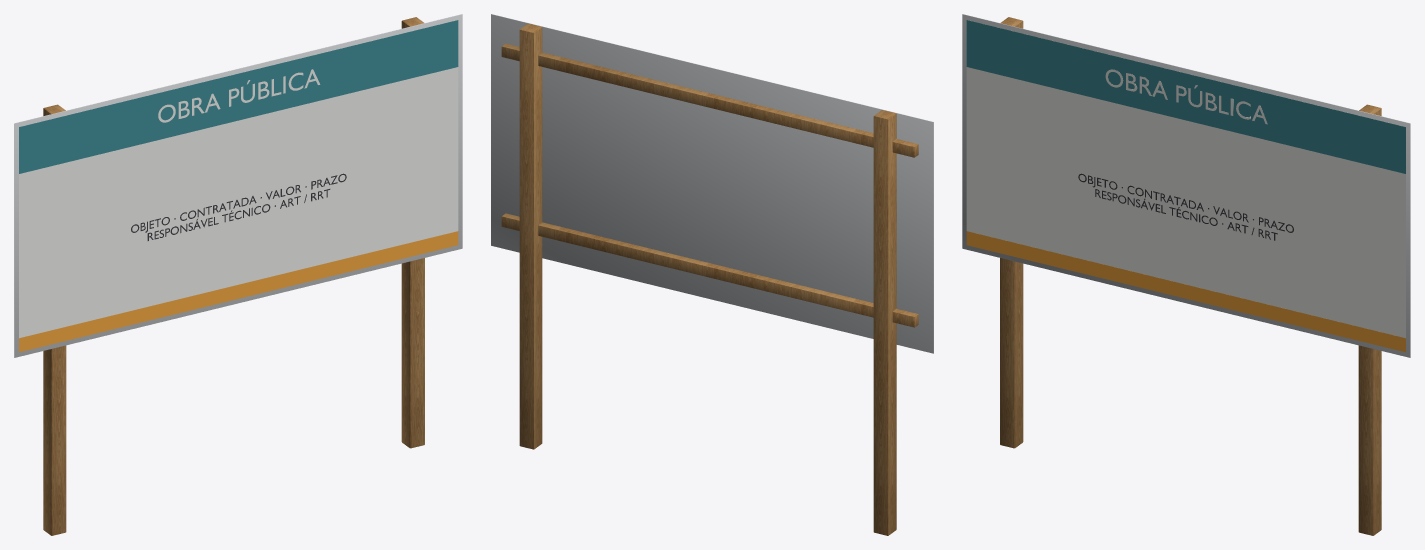
Rendered from SER-PLC-001.glb.
3 views of the same model, side by side, from view 1: azimuth 30°, elevation 25°; view 2: azimuth 150°, elevation 25°; view 3: azimuth 330°, elevation 25° (orthographic).
Parts seen in each view (by area): view 1: SER-PLC-001_fundo, SER-PLC-001_faixa, SER-PLC-001_chapa, SER-PLC-001_faixa2, SER-PLC-001_pontalete0, SER-PLC-001_pontalete1, SER-PLC-001_texto, SER-PLC-001_titulo; view 2: SER-PLC-001_chapa, SER-PLC-001_pontalete0, SER-PLC-001_pontalete1, SER-PLC-001_travessa0, SER-PLC-001_travessa1; view 3: SER-PLC-001_fundo, SER-PLC-001_faixa, SER-PLC-001_chapa, SER-PLC-001_faixa2, SER-PLC-001_pontalete1, SER-PLC-001_pontalete0, SER-PLC-001_texto, SER-PLC-001_titulo.
Boxes of the visible parts, x1,y1,x2,y2 form: SER-PLC-001_fundo: (19,67,458,338); SER-PLC-001_faixa: (19,20,458,173); SER-PLC-001_chapa: (14,14,462,357); SER-PLC-001_faixa2: (19,231,458,352); SER-PLC-001_pontalete0: (43,104,66,535); SER-PLC-001_pontalete1: (401,17,424,448); SER-PLC-001_texto: (131,173,346,240); SER-PLC-001_titulo: (158,69,320,122); SER-PLC-001_chapa: (491,14,933,353); SER-PLC-001_pontalete0: (873,110,896,535); SER-PLC-001_pontalete1: (519,23,542,449); SER-PLC-001_travessa0: (501,213,918,327); SER-PLC-001_travessa1: (501,43,918,157); SER-PLC-001_fundo: (966,67,1405,338); SER-PLC-001_faixa: (966,20,1405,173); SER-PLC-001_chapa: (962,14,1410,357); SER-PLC-001_faixa2: (966,231,1405,352); SER-PLC-001_pontalete1: (1358,104,1381,535); SER-PLC-001_pontalete0: (1000,17,1023,448); SER-PLC-001_texto: (1078,173,1293,240); SER-PLC-001_titulo: (1105,69,1267,124).
Size of the model in its own units: 3 by 2.7 by 0.1055.
6 materials, 1 textured.
